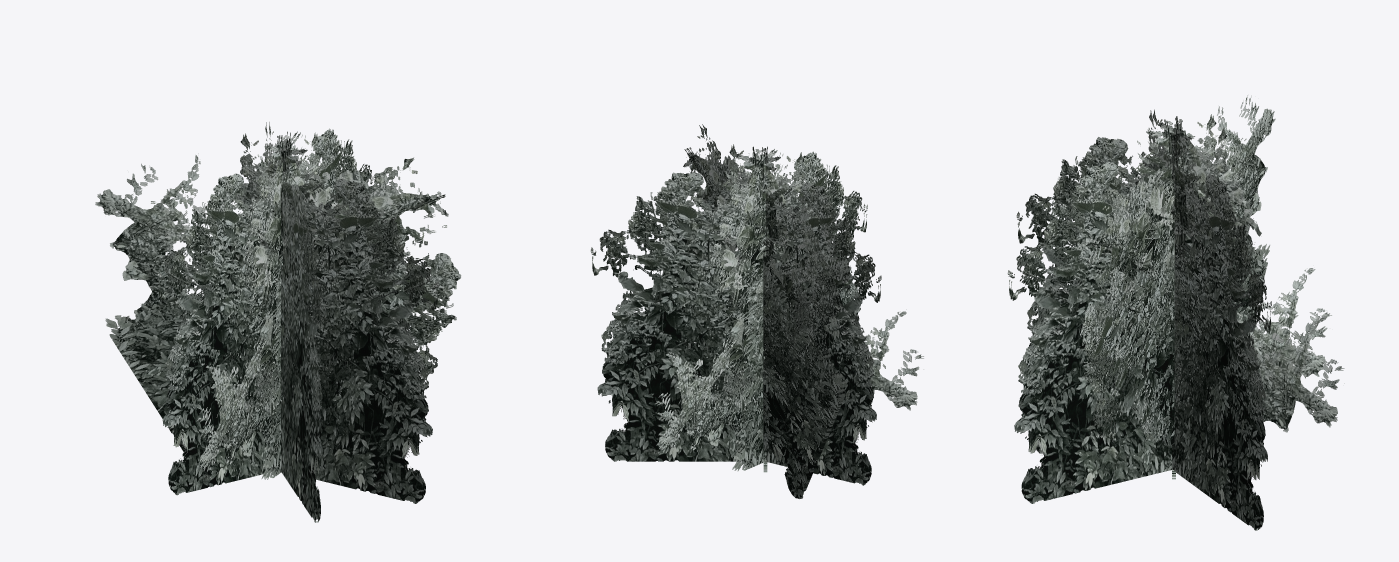
Rendered from gideonbush.fbx.
3 renders of one model, left to right at view 1: azimuth 30°, elevation 25°; view 2: azimuth 150°, elevation 25°; view 3: azimuth 270°, elevation 25°, orthographic. The views are drawn at different scales.
Visible parts, largest first — view 1: Bush.004; view 2: Bush.004; view 3: Bush.004.
Boxes of the visible parts, x1,y1,x2,y2 form: Bush.004: [95, 122, 461, 522]; Bush.004: [590, 124, 923, 498]; Bush.004: [1007, 95, 1344, 530].
Bounding box in the file's own units: 123 × 145 × 98.67.
